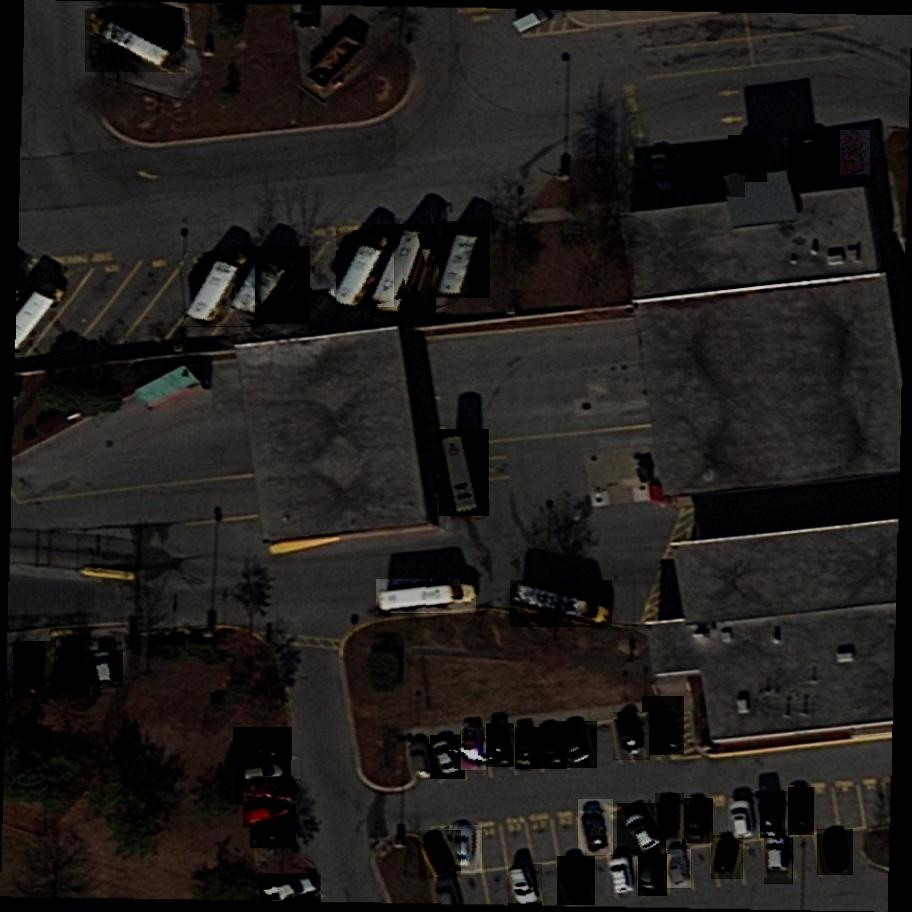large-vehicle: (230, 242, 311, 333), (86, 7, 187, 76), (373, 219, 436, 327), (185, 246, 258, 335), (336, 227, 398, 317), (510, 580, 613, 630), (440, 430, 493, 519), (436, 219, 490, 305), (376, 580, 479, 617)
small-vehicle: (695, 141, 746, 200), (788, 131, 841, 186), (51, 627, 91, 697), (617, 803, 666, 859), (642, 697, 686, 758), (13, 639, 56, 701), (419, 828, 462, 879), (259, 874, 321, 909), (556, 855, 596, 906), (578, 798, 613, 856), (614, 711, 652, 763), (557, 720, 598, 768), (233, 727, 292, 760), (729, 133, 767, 183), (234, 778, 302, 805), (645, 148, 681, 198), (835, 127, 870, 177), (243, 798, 299, 829), (816, 830, 853, 876), (430, 733, 466, 779), (679, 799, 714, 844), (450, 825, 482, 874), (238, 757, 294, 784), (508, 865, 544, 907), (606, 854, 640, 897), (710, 836, 743, 879), (728, 796, 760, 840), (757, 791, 785, 840), (675, 148, 706, 192), (656, 793, 685, 840), (486, 721, 515, 768), (91, 647, 124, 687), (638, 853, 668, 897), (539, 723, 567, 769), (788, 787, 814, 835), (765, 838, 792, 883), (665, 849, 692, 890), (462, 728, 487, 770), (516, 727, 540, 769), (408, 741, 433, 779), (250, 828, 296, 848)
